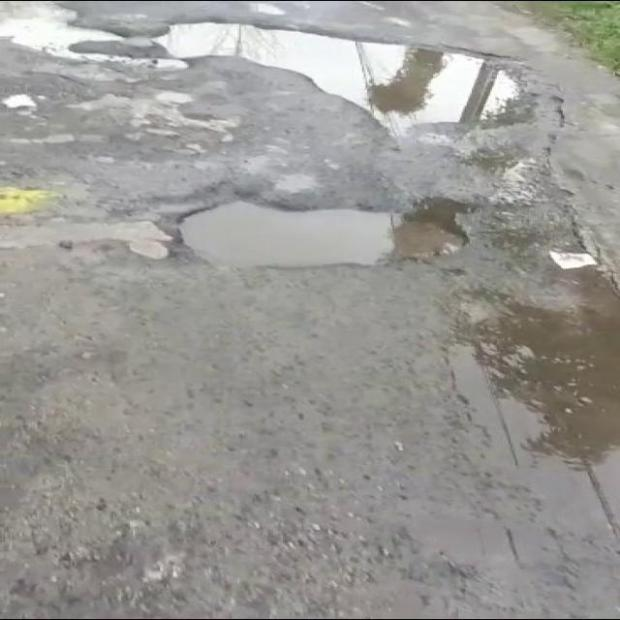lubang: (450, 151, 619, 604), (156, 22, 562, 140), (181, 199, 466, 267), (0, 5, 187, 81)
